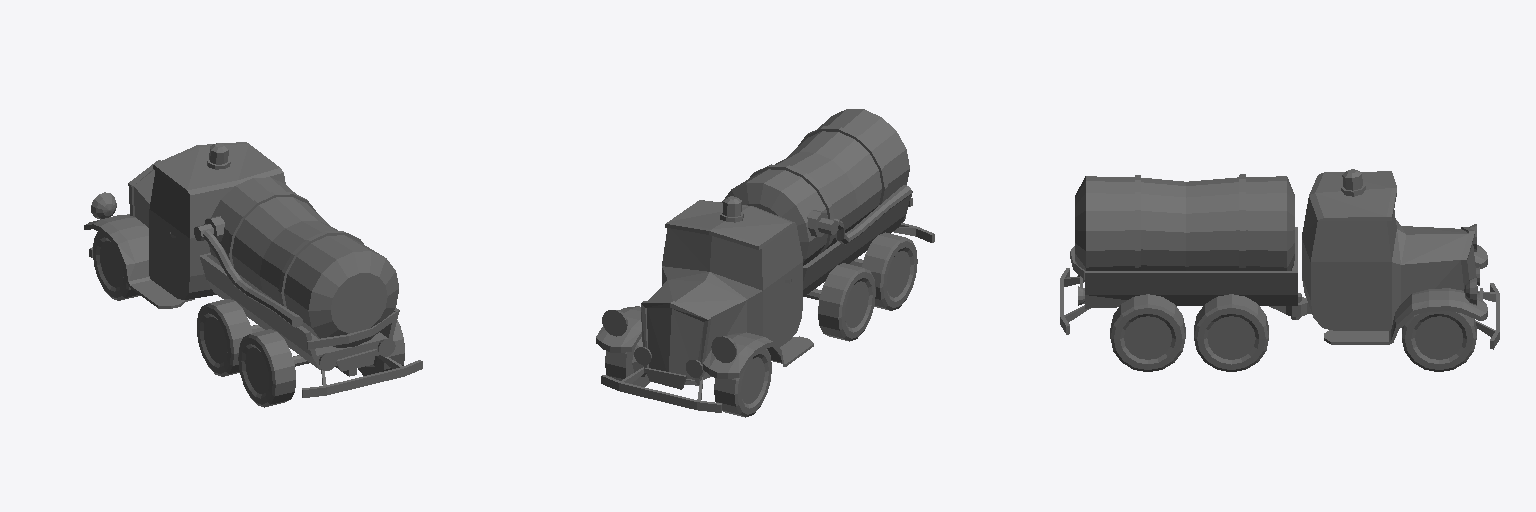
The model's file is sewage.obj.
The picture shows the model from 3 angles: view 1: azimuth 30°, elevation 25°; view 2: azimuth 150°, elevation 25°; view 3: azimuth 270°, elevation 25°; orthographic projection.
Parts seen in each view (by area): view 1: Sphere001_Untitled.017; view 2: Sphere001_Untitled.017; view 3: Sphere001_Untitled.017.
Part boxes in pixels (x1,y1,x2,y2): Sphere001_Untitled.017: (84,142,422,407); Sphere001_Untitled.017: (596,109,934,417); Sphere001_Untitled.017: (1060,169,1499,371).
Size of the model in its own units: 2.27 by 2.56 by 6.02.